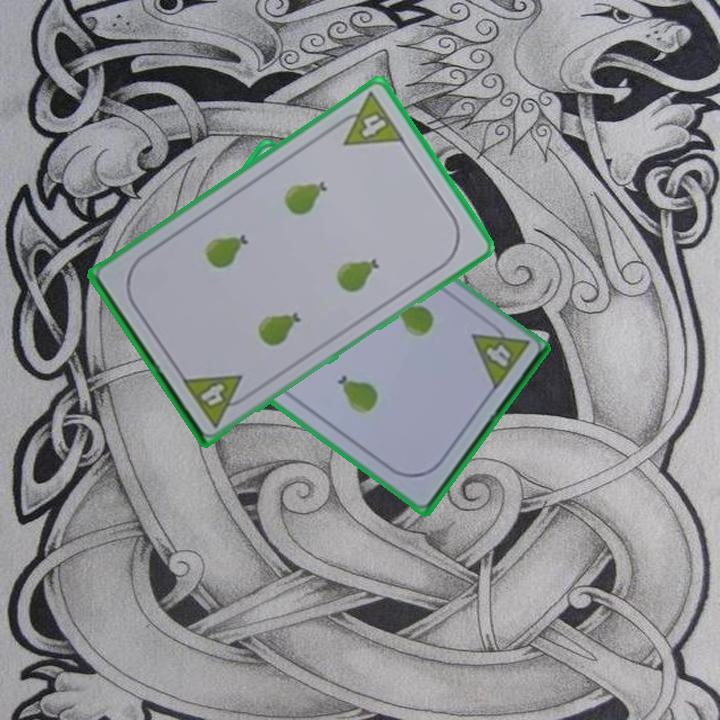4p: (468, 315, 531, 395), (329, 88, 408, 149), (178, 370, 255, 430)
